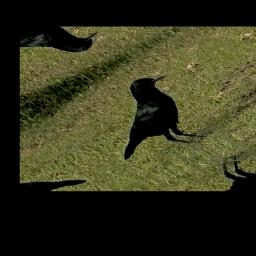Crow: (62, 69, 239, 173)
